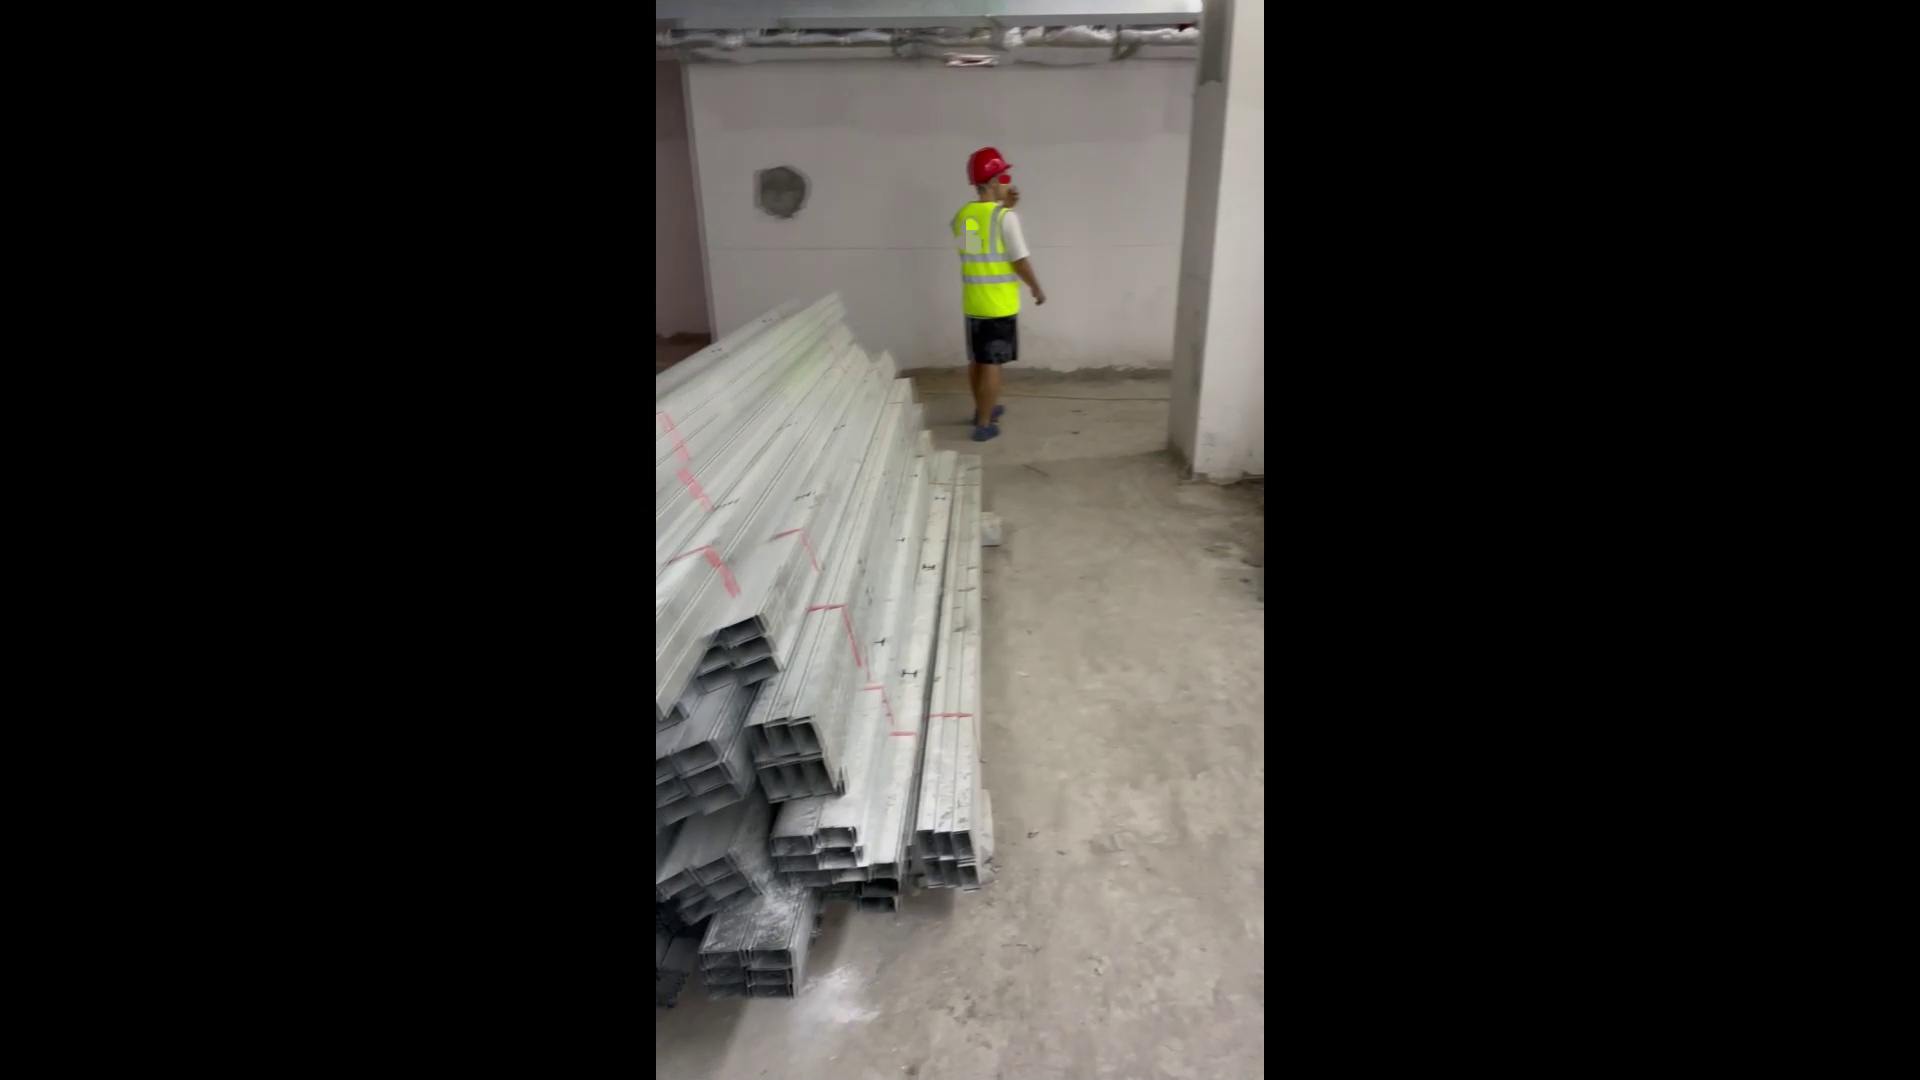helmet: (965, 151, 1013, 183)
person: (945, 139, 1042, 436)
vest: (947, 195, 1035, 326)
